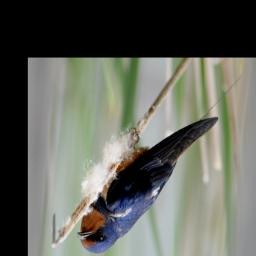Swallow: (75, 116, 219, 255)
